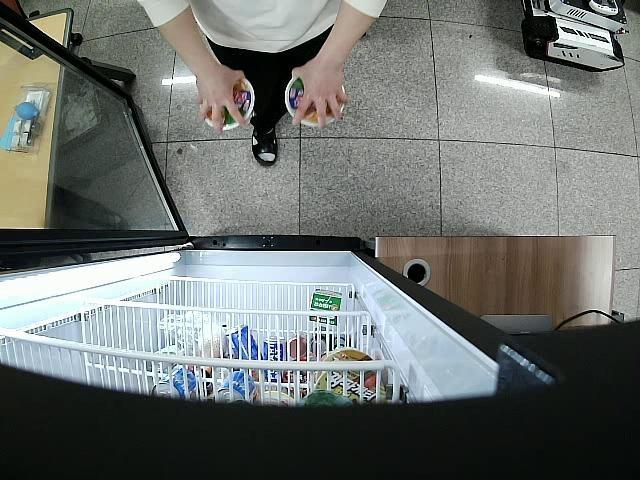09_yukGaeJang: (286, 77, 346, 126), (200, 78, 254, 131)
